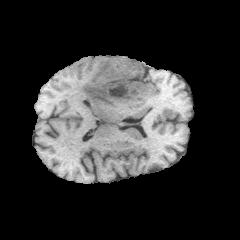glioma: (78, 60, 146, 107)
